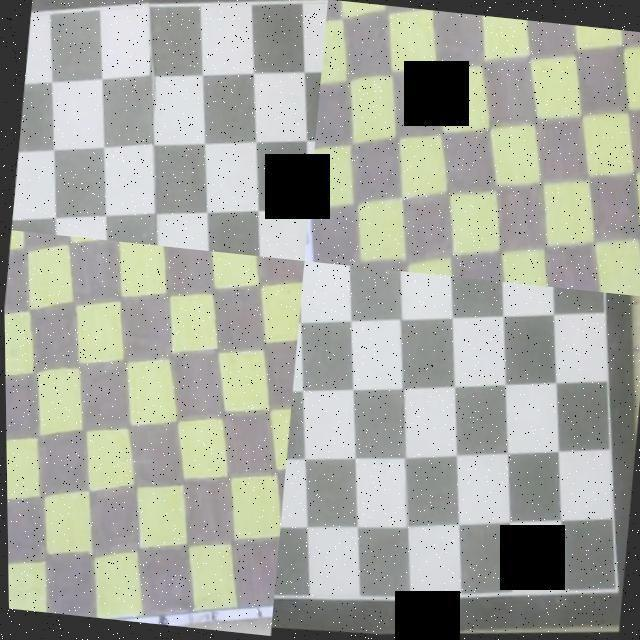chess-table-corners: (610, 590, 618, 602), (28, 25, 34, 35), (270, 602, 274, 613), (10, 224, 15, 230), (320, 259, 325, 263)
